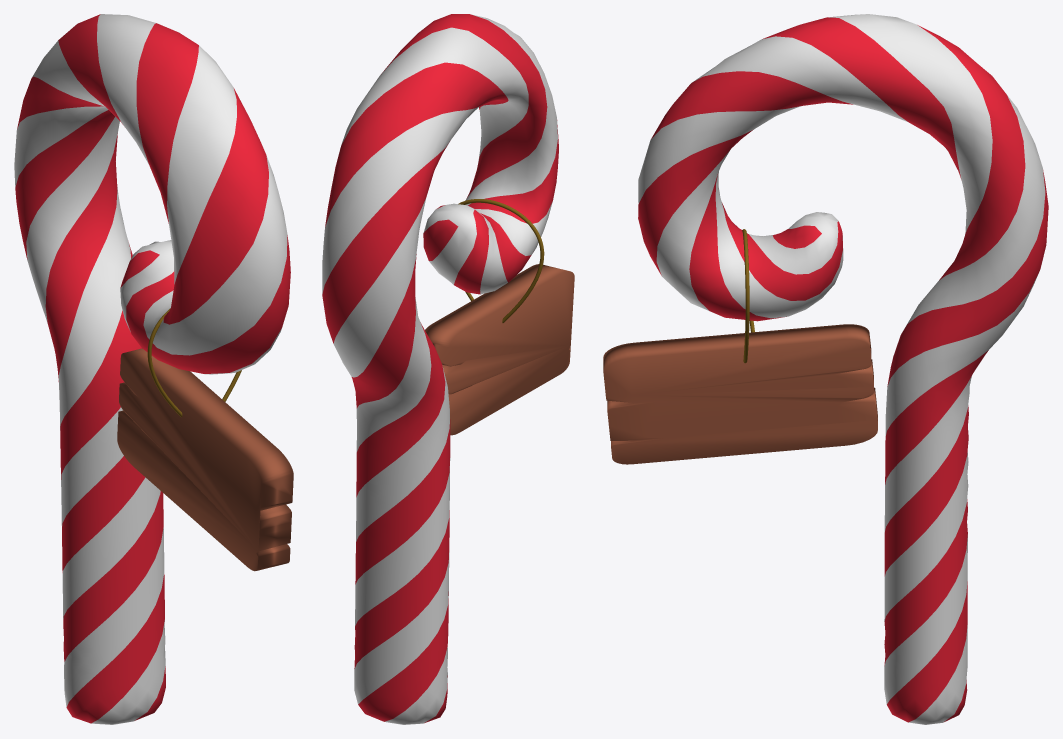
Rendered from Sign.fbx.
3 views of the same model, side by side, from view 1: azimuth 30°, elevation 25°; view 2: azimuth 150°, elevation 25°; view 3: azimuth 270°, elevation 25° (orthographic). The views are drawn at different scales.
Visible parts, largest first — view 1: baston cartel, Cube, BezierCurve; view 2: baston cartel, Cube, BezierCurve; view 3: baston cartel, Cube.
Boxes of the visible parts, x1,y1,x2,y2 form: baston cartel: (14, 14, 290, 724); Cube: (117, 348, 293, 571); BezierCurve: (147, 308, 241, 417); baston cartel: (322, 14, 558, 724); Cube: (425, 264, 574, 435); BezierCurve: (458, 199, 544, 322); baston cartel: (638, 14, 1048, 724); Cube: (603, 324, 877, 464).
Size of the model in its own units: 70.73 by 451 by 264.
